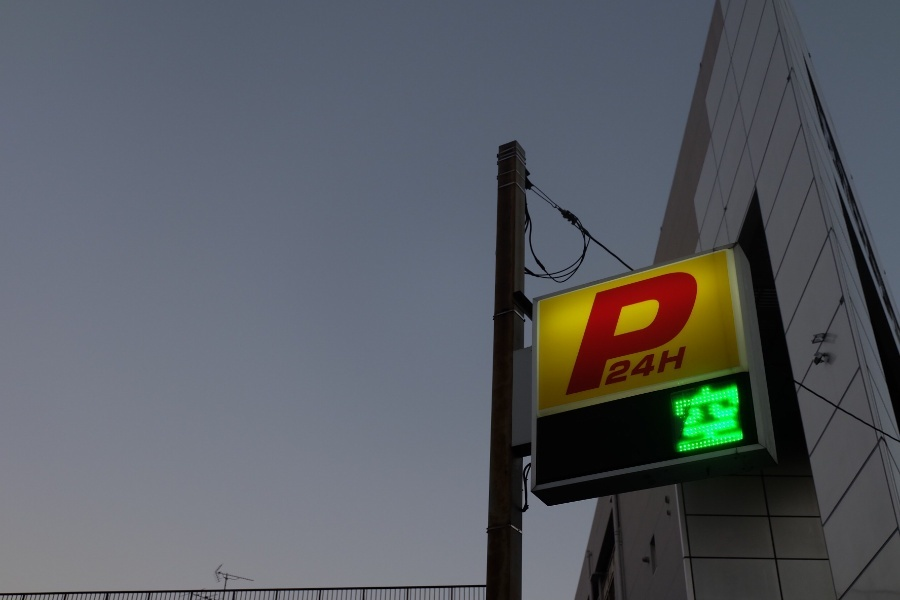text: (689, 265, 705, 398), (609, 265, 624, 398), (625, 265, 640, 398), (641, 265, 656, 398), (657, 265, 672, 398), (673, 265, 688, 398), (596, 265, 608, 398), (673, 381, 688, 455), (689, 381, 704, 455), (705, 381, 720, 455), (721, 381, 736, 455), (625, 347, 640, 387), (641, 347, 656, 387), (657, 347, 672, 387), (611, 347, 624, 387), (673, 347, 686, 387), (737, 381, 743, 455), (670, 381, 672, 455)
